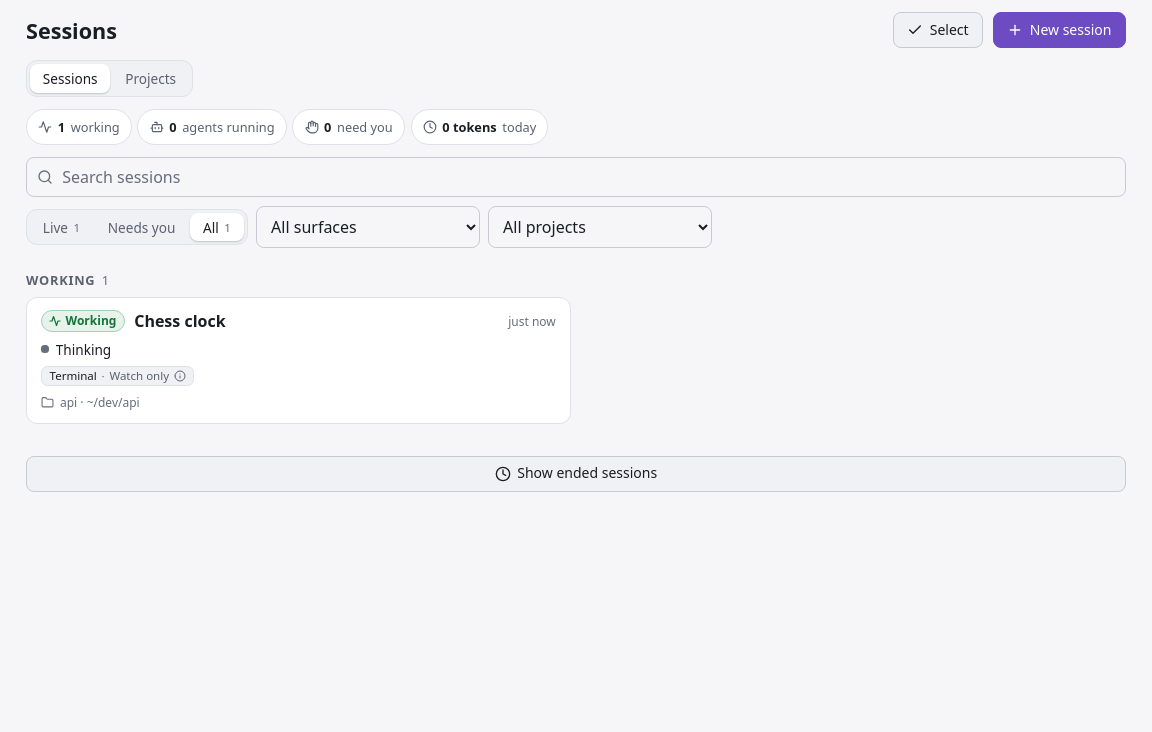
Test case: SessionsComponent accounts › searches earlier sessions on the server as soon as a search is typed
Type "xiangqi" into the search field named "Search sessions".
click(576, 177); type("xiangqi")  # box [26,157,1126,197]
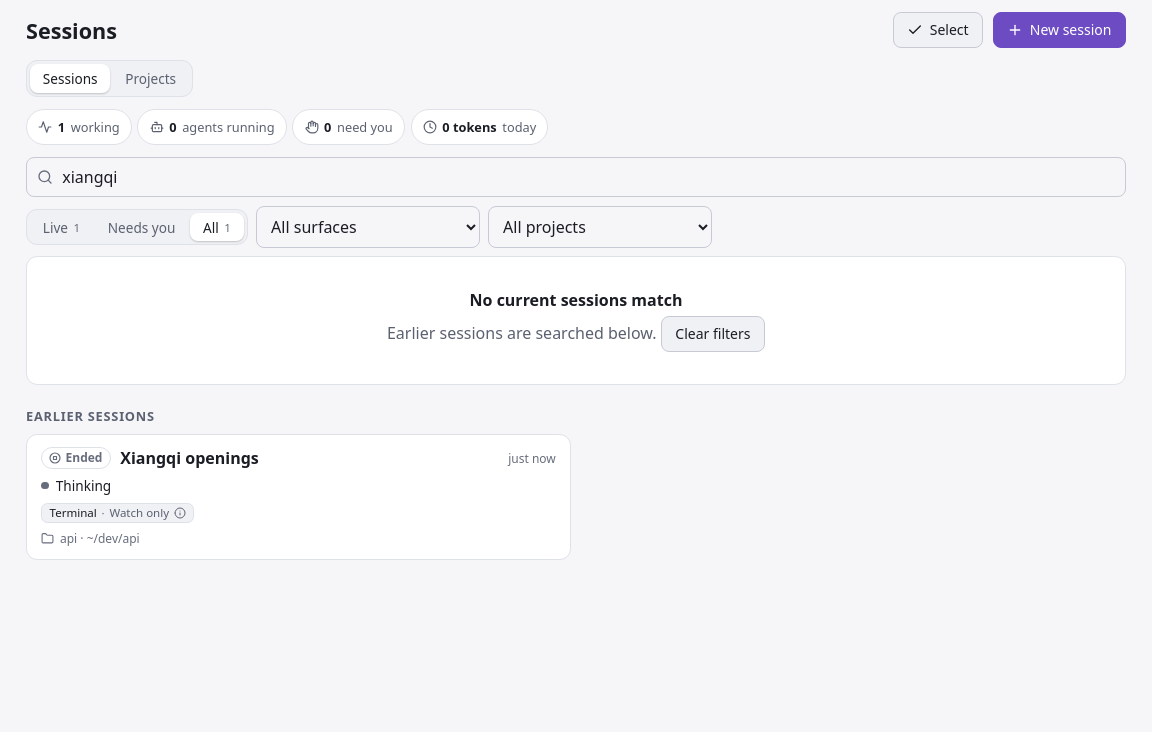
Expected: the text "No current sessions match" is shown, [470,289,682,311]
